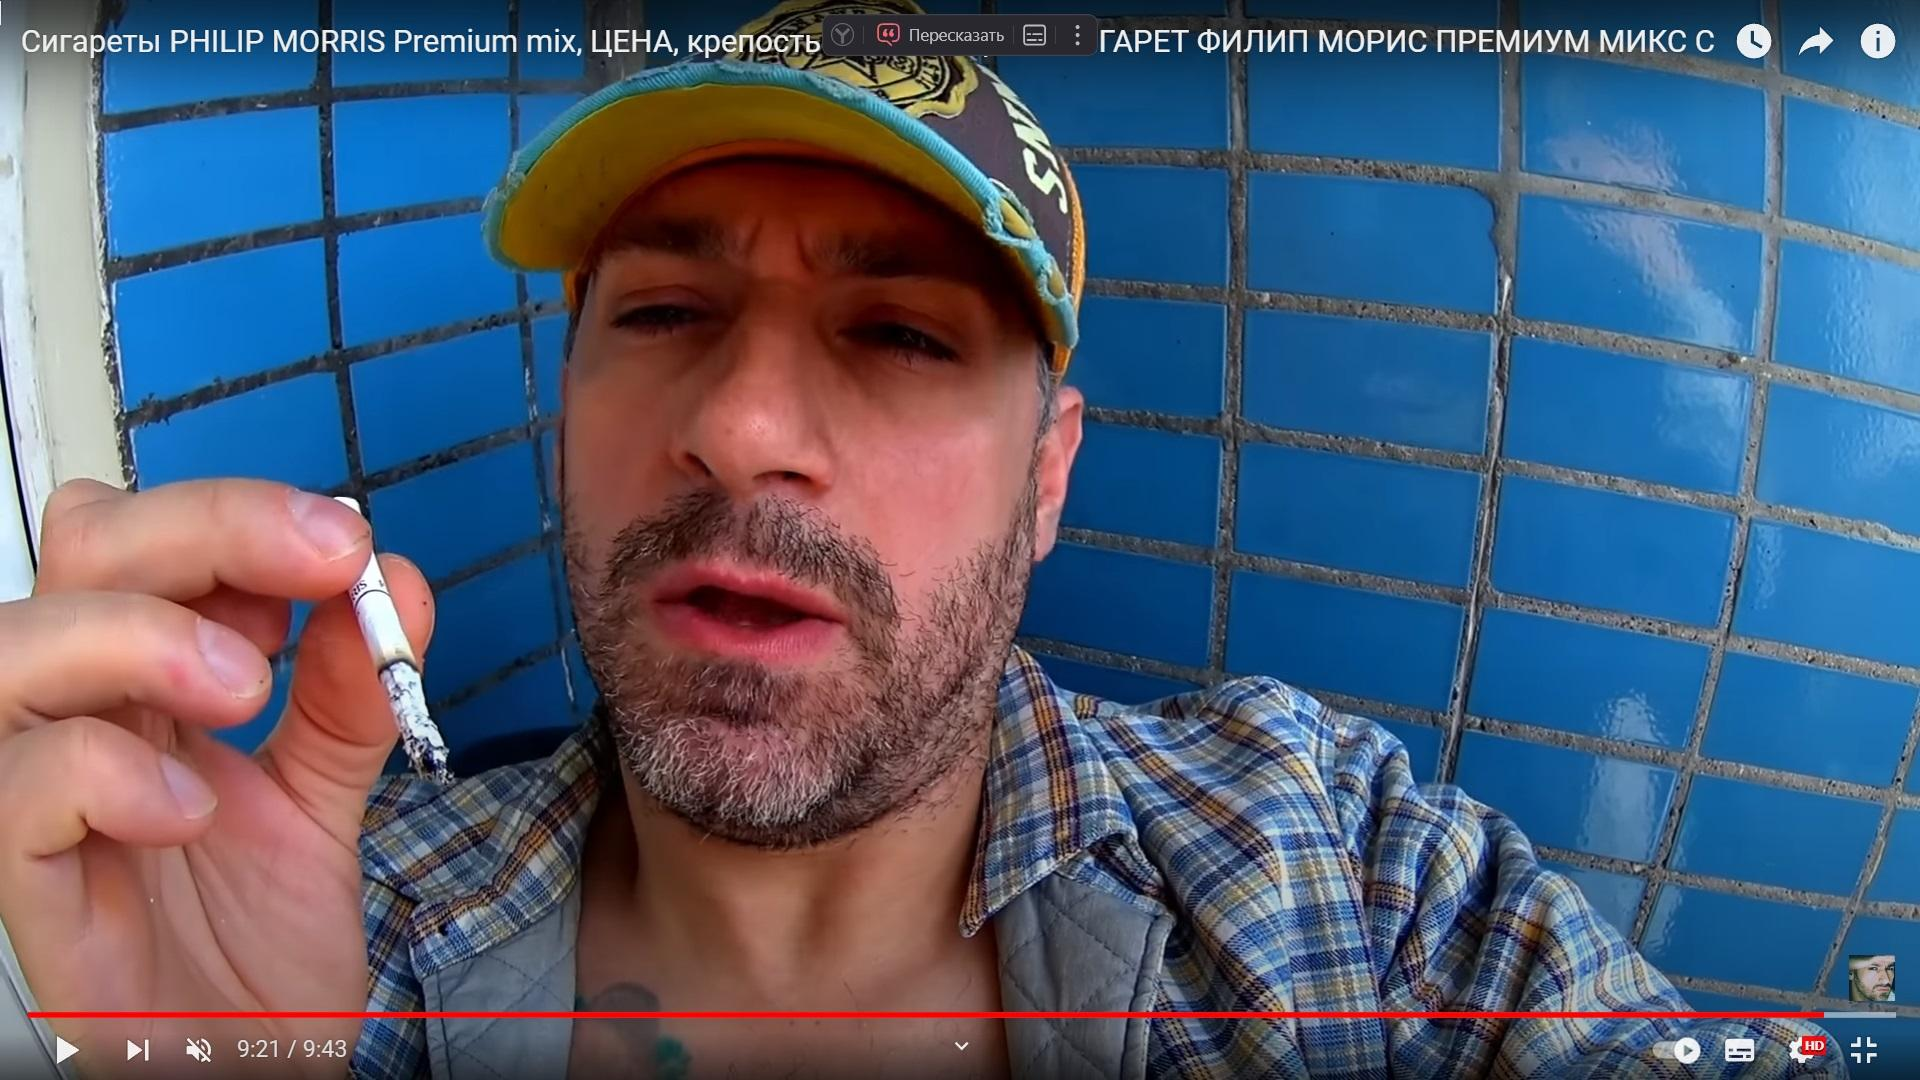cigarette: (326, 496, 450, 783)
